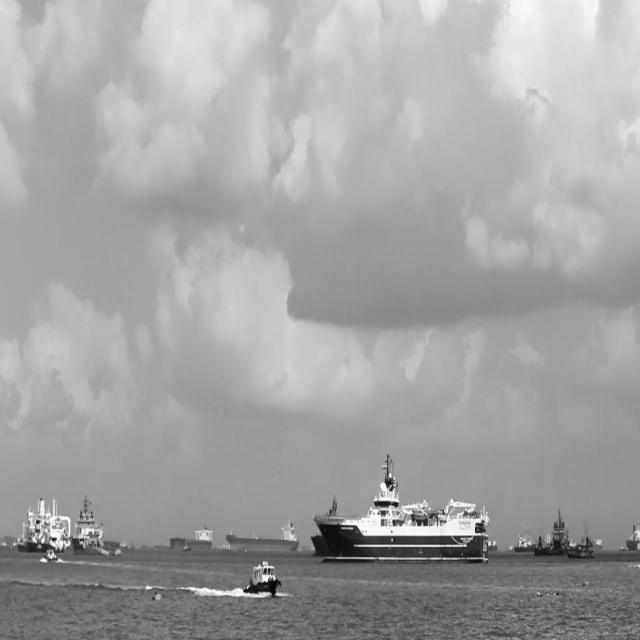buoy: (150, 584, 168, 604), (580, 573, 596, 589), (531, 584, 547, 598)
ship: (308, 447, 498, 572), (15, 490, 74, 556), (76, 492, 127, 560), (225, 518, 305, 560), (528, 507, 578, 564), (162, 521, 220, 556), (241, 552, 285, 598), (558, 518, 598, 565), (514, 520, 543, 560), (39, 544, 65, 572)
